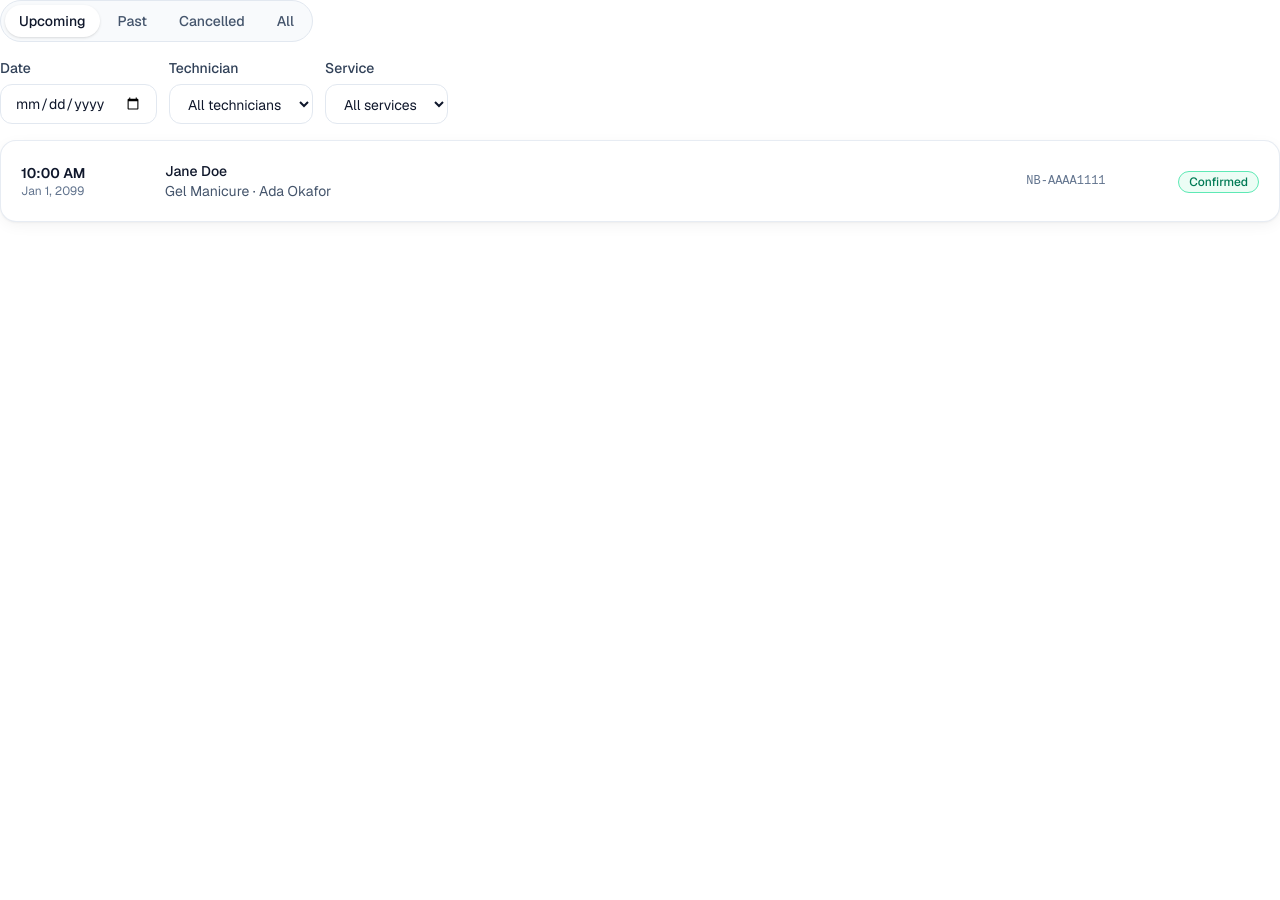
Test: S11 lifecycle — Upcoming → cancel → Cancelled › walks the full lifecycle the task describes
Expected: the text "Jane Doe" is shown, [165, 162, 227, 180]
Expected: the text "Confirmed" is shown, [1178, 171, 1259, 193]
# Open detail.
Click the button with aria-label "view booking details for jane doe" at (53, 173), box [21, 161, 1154, 201]
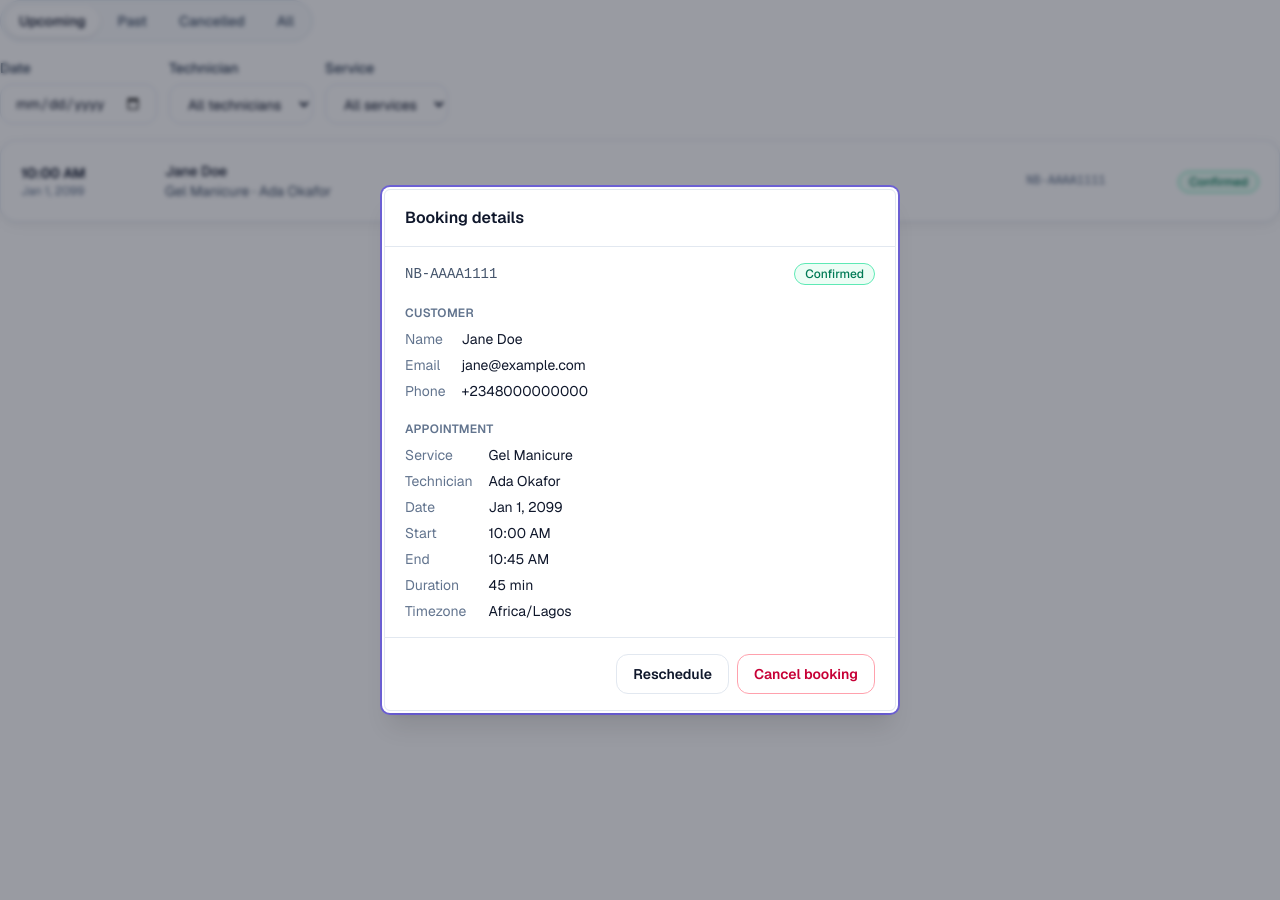
# Cancel booking → confirm.
Click the button "Cancel booking" at (806, 674), box [737, 654, 875, 694]
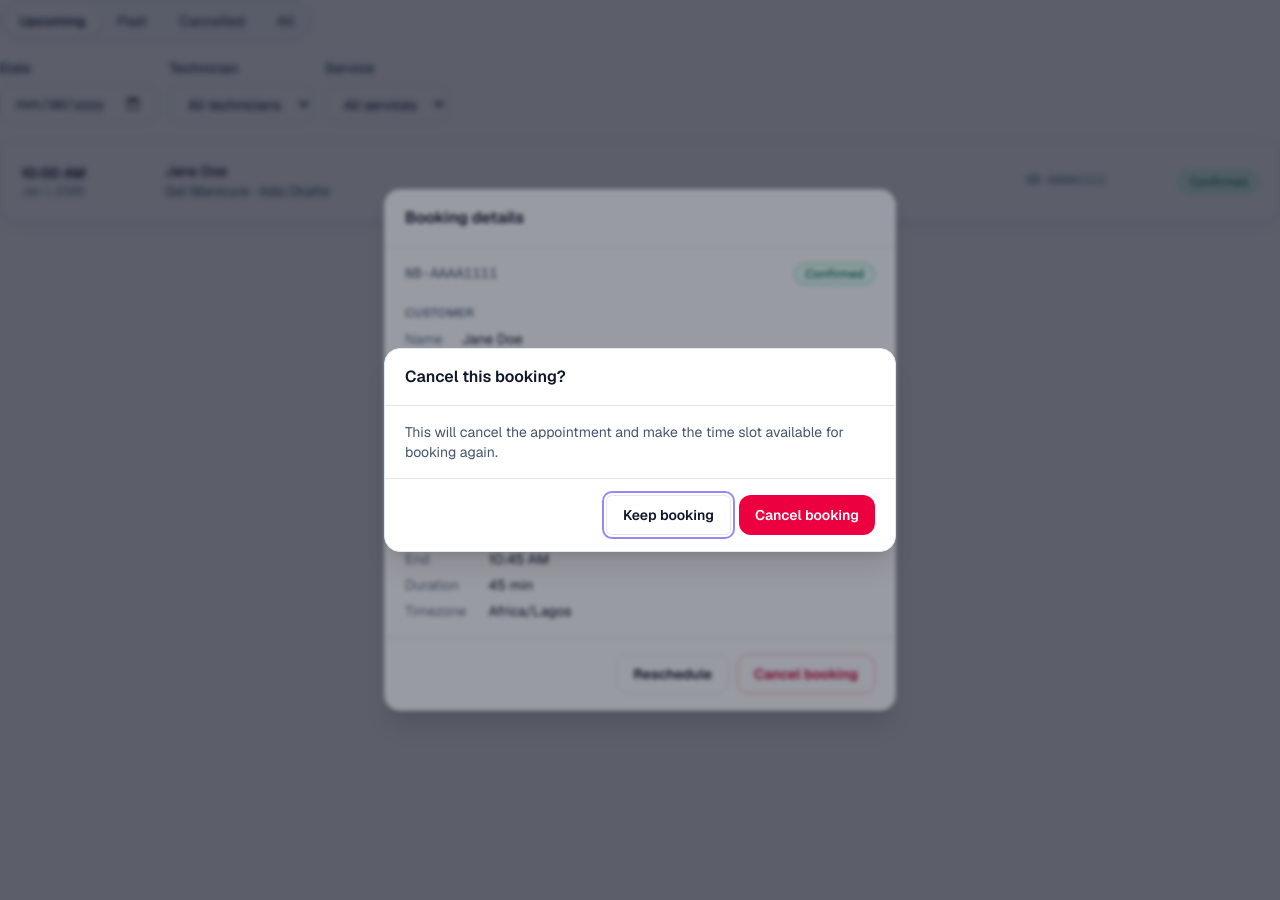
Click the button "Cancel booking" at (807, 515), box [739, 495, 875, 535]
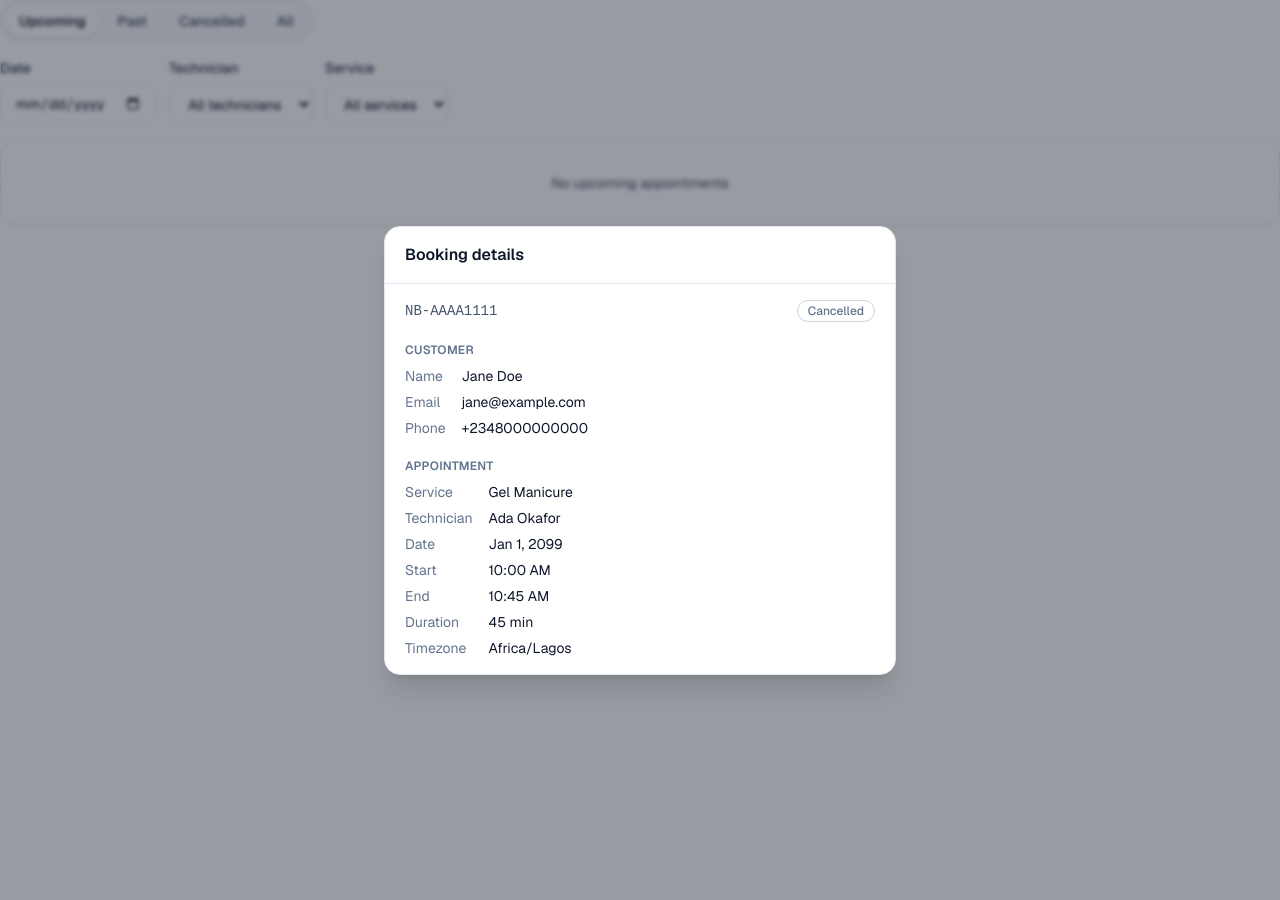
Expected: the text "Cancelled" is shown, [797, 300, 875, 322]
Click the button named "close booking details" at (77, 450), box [0, 0, 1279, 899]
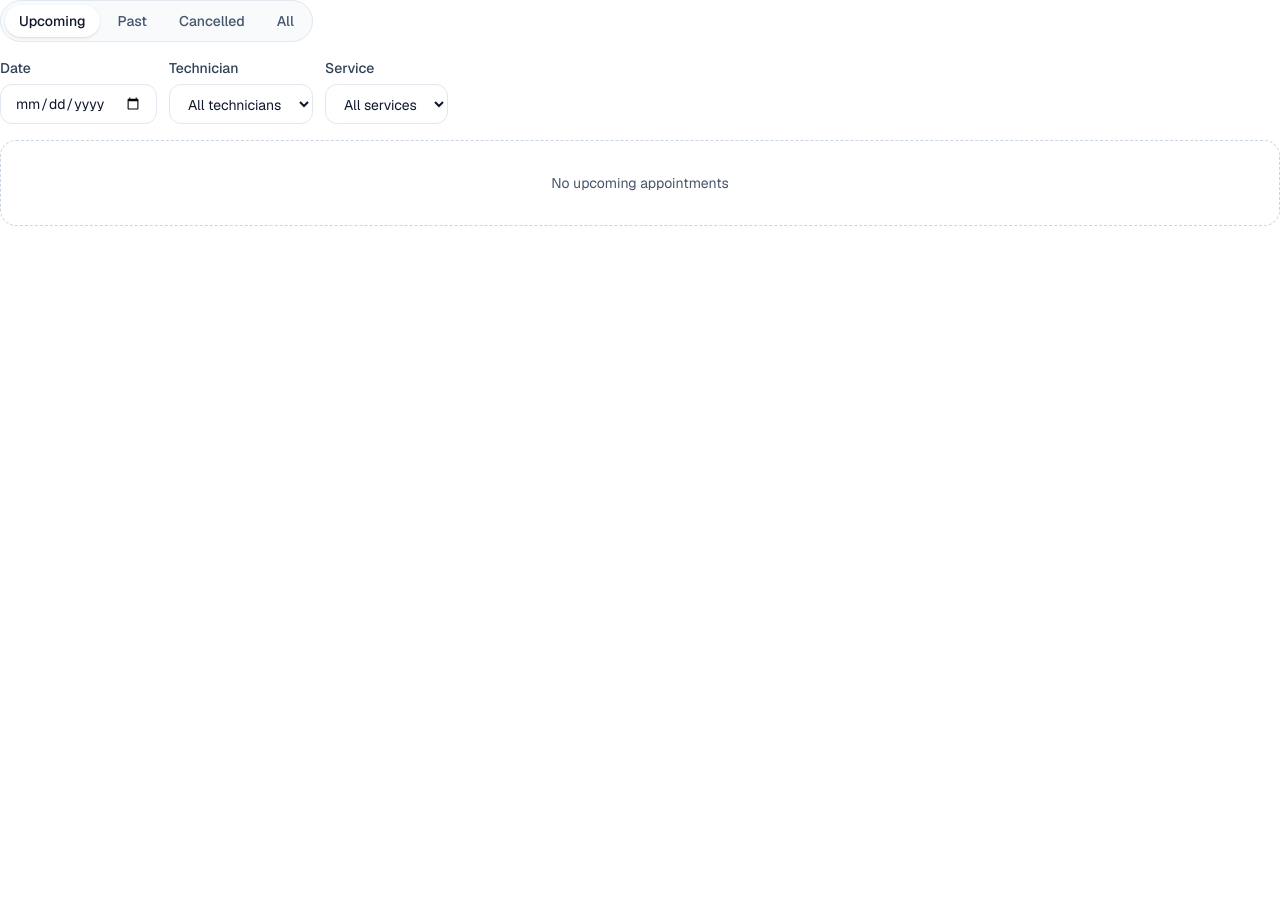
Expected: the text "No upcoming appointments" is shown, [551, 174, 729, 192]
Expected: the text "Jane Doe" is gone
# Switching to Cancelled shows the same booking, CANCELLED.
Click the tab "Cancelled" at (212, 21), box [165, 5, 259, 37]
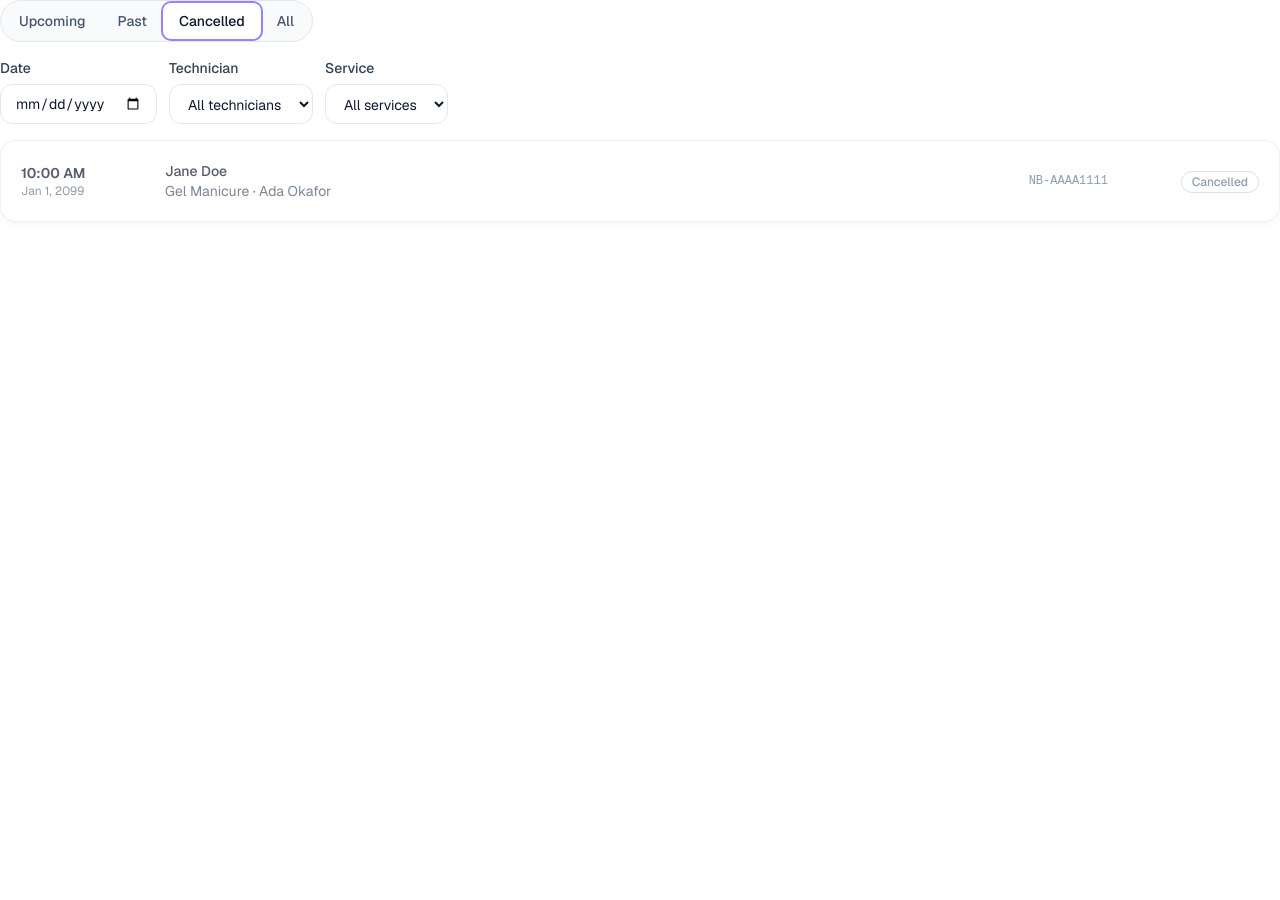
Expected: the text "Cancelled" is shown, [1181, 171, 1259, 193]
